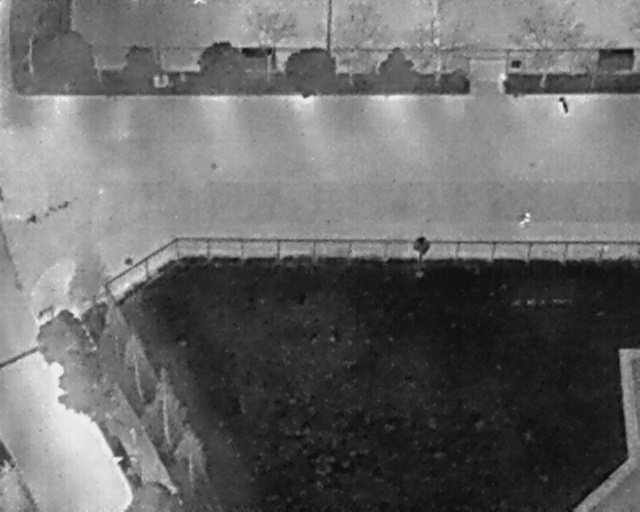Person: (516, 212, 531, 228), (193, 0, 206, 5)
